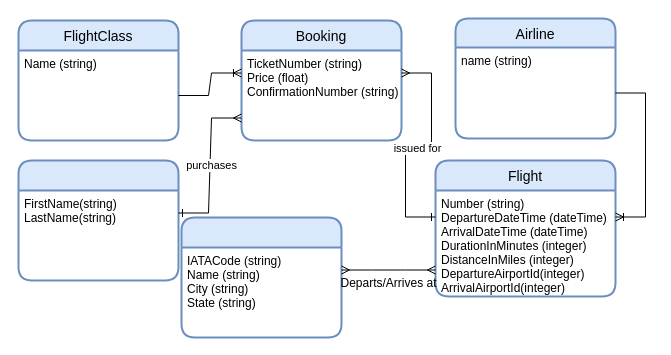
The diagram is 671 pixels wide and 355 high, and some of its shapes have lost their labels. Here are the shapes that lost their labels. From the top down, the box of each, then its label:
(17, 159, 179, 281): Passenger
(180, 216, 342, 338): Airport
